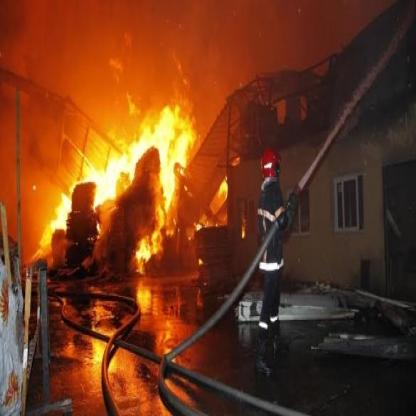fire: (31, 73, 202, 276), (219, 177, 228, 199), (241, 211, 246, 238)
